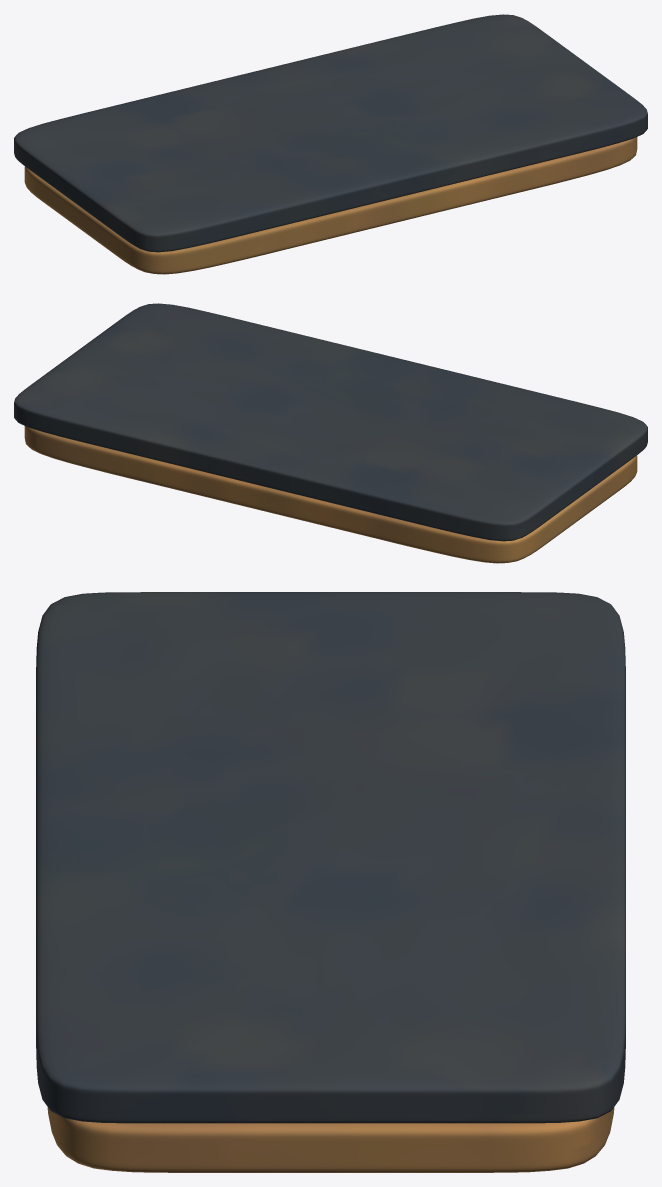
File: bench-top.glb
3 renders of one model, top to bottom at view 1: azimuth 30°, elevation 25°; view 2: azimuth 150°, elevation 25°; view 3: azimuth 270°, elevation 25°, orthographic. The views are drawn at different scales.
Visible parts, largest first — view 1: bench-top-top, bench-top-wood; view 2: bench-top-top, bench-top-wood; view 3: bench-top-top, bench-top-wood.
Part boxes in pixels (<box>): bench-top-top: <box>14,14,647,252</box>; bench-top-wood: <box>24,137,637,274</box>; bench-top-top: <box>14,303,647,541</box>; bench-top-wood: <box>24,426,637,563</box>; bench-top-top: <box>36,592,625,1123</box>; bench-top-wood: <box>47,1107,614,1172</box>.
Size of what is drawn, in the model's own units: 60 by 5.6 by 30.
